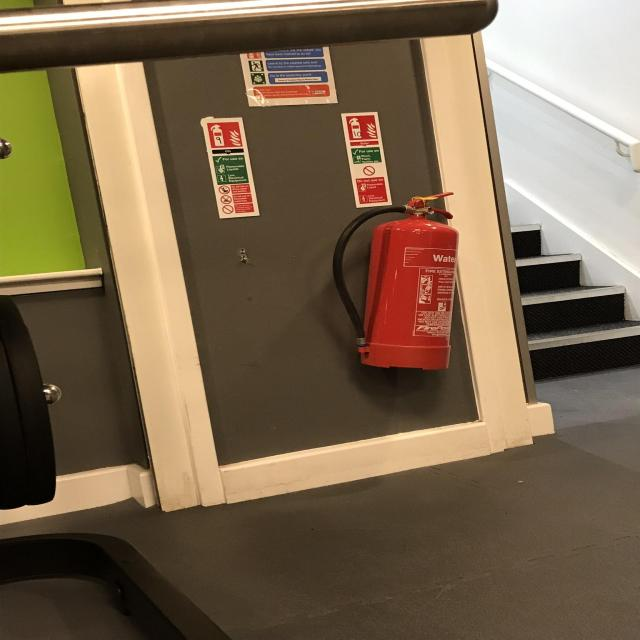fire_extinguisher: (327, 190, 462, 375)
